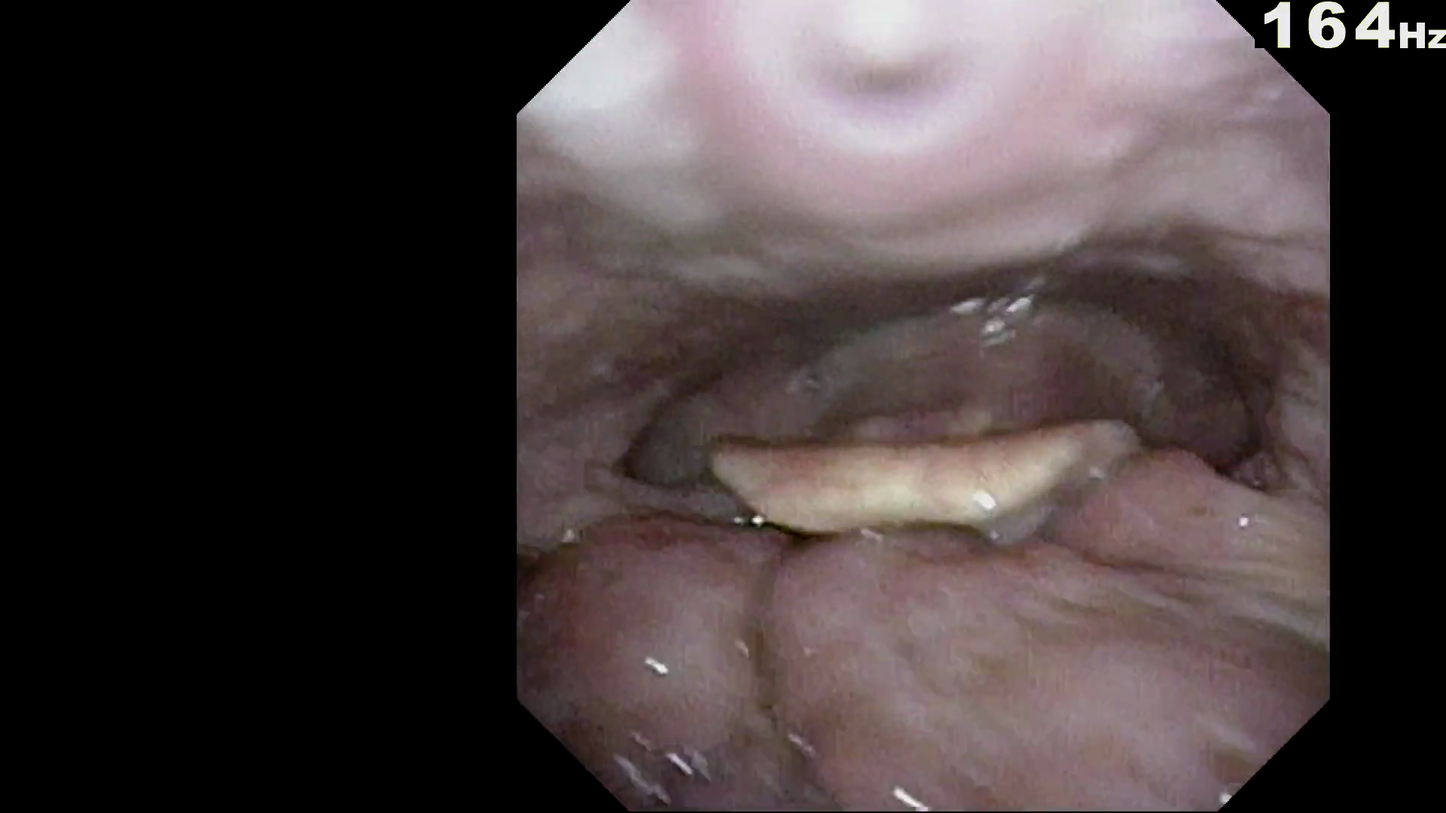epiglottis: (691, 409, 1175, 552)
